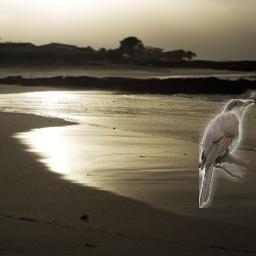Cuckoo: (199, 99, 254, 208)
